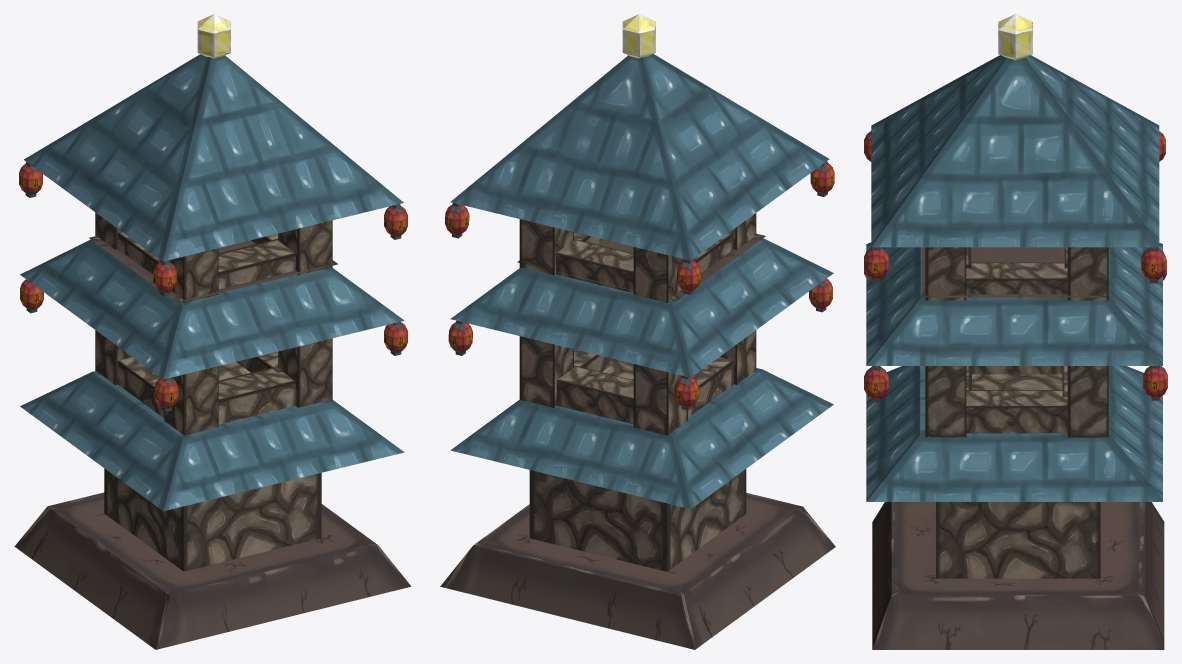
The model's file is sniper tower upgrade 1 .fbx.
3 views of the same model, side by side, from view 1: azimuth 30°, elevation 25°; view 2: azimuth 150°, elevation 25°; view 3: azimuth 270°, elevation 25° (orthographic). The views are drawn at different scales.
Visible parts, largest first — view 1: boven dak, base, dak 1, dak 2, eerste verdieping, Cube.11, Cube.3, Cube.4, Cube.12, Cube.5, Cube.6, Cube.10 (+11 smaller); view 2: boven dak, base, dak 1, dak 2, eerste verdieping, Cube.14, Cube.15, Cube.2, Cube.1, Cube.7, Cube.8, Cube.10 (+11 smaller); view 3: boven dak, base, dak 1, dak 2, eerste verdieping, Cube.9, Cube.13, Cube.1, Cube.4, vloer, Cube.8, Cube.5 (+6 smaller).
Boxes of the visible parts, x1,y1,x2,y2 form: boven dak: (24,54,403,261); base: (14,492,411,649); dak 1: (20,371,404,511); dak 2: (20,239,404,379); eerste verdieping: (104,362,321,571); Cube.11: (218,367,295,424); Cube.3: (164,366,218,435); Cube.4: (278,338,332,407); Cube.12: (218,238,295,289); Cube.5: (278,220,332,275); Cube.6: (169,248,218,302); Cube.10: (117,357,164,417); boven dak: (450,54,829,260); base: (440,493,835,649); dak 1: (450,368,833,508); dak 2: (450,238,833,377); eerste verdieping: (529,360,746,571); Cube.14: (556,365,633,424); Cube.15: (555,239,633,292); Cube.2: (633,364,687,435); Cube.1: (519,336,573,407); Cube.7: (633,247,684,302); Cube.8: (519,219,573,275); Cube.10: (688,357,733,417); boven dak: (871,55,1159,247); base: (872,502,1164,649); dak 1: (866,366,1162,501); dak 2: (866,242,1162,365); eerste verdieping: (936,374,1100,578); Cube.9: (966,390,1067,433); Cube.13: (966,262,1067,294); Cube.1: (1067,366,1108,437); Cube.4: (925,366,966,437); vloer: (921,247,1106,297); Cube.8: (1067,247,1108,300); Cube.5: (925,247,966,300).
Size of the model in its own units: 371 by 768 by 369.
31 materials, 31 textured.
